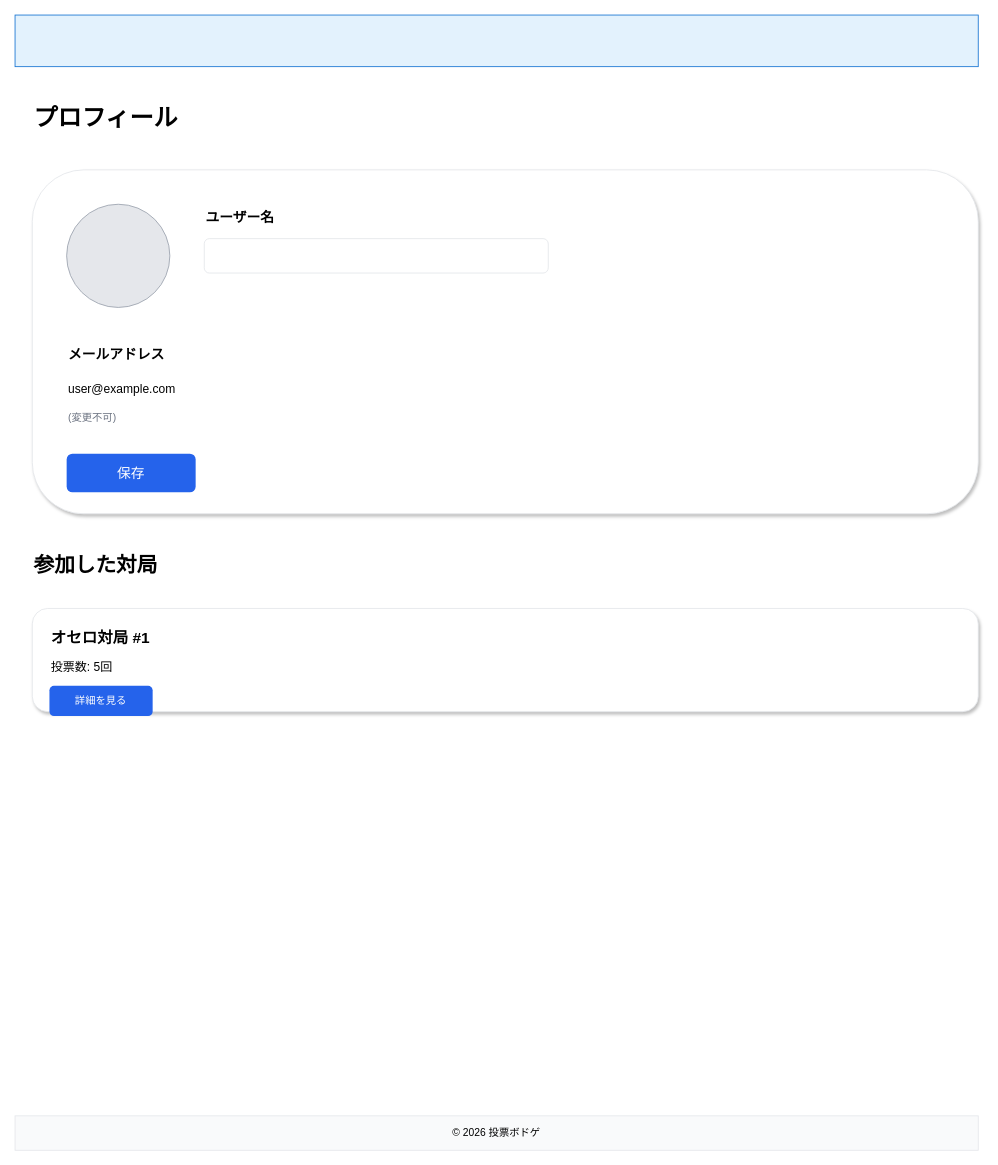
Some shapes in this 998 by 1165 pixel diagram are drawn without their labels. Here are the shapes that lost their labels. From the top down, the centre of each, then its label:
At point 496,40: "[ロゴ] 投票ボドゲ".
At point 118,255: "[アイコン画像]".
